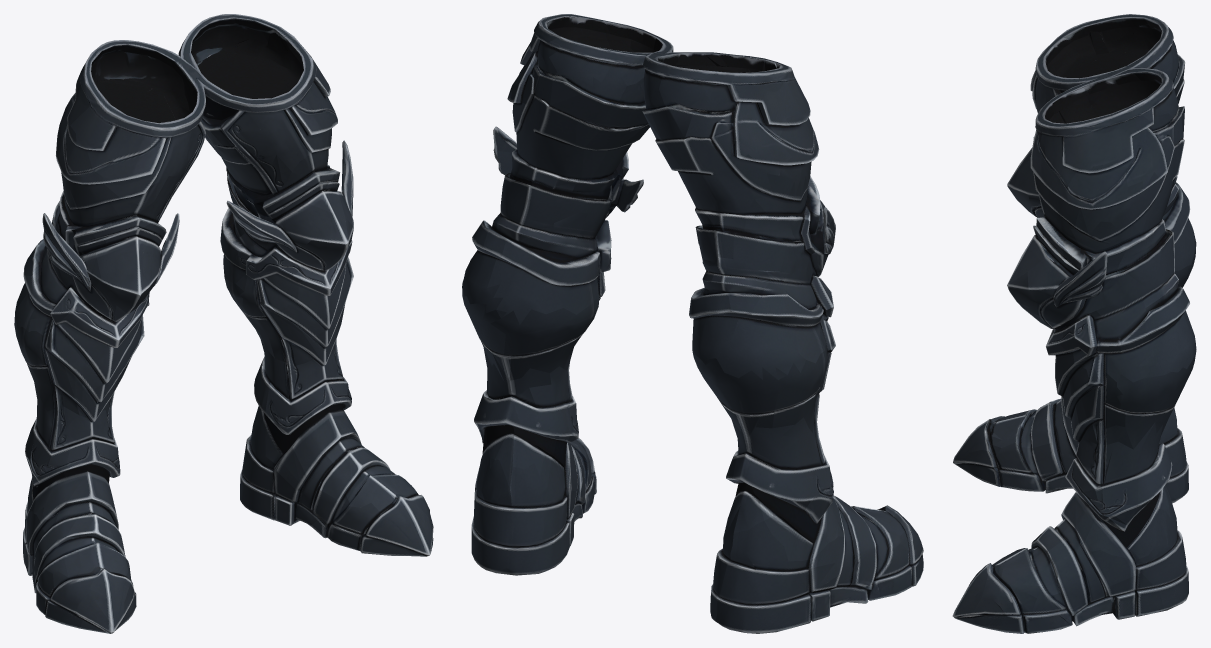
Rendered from darkplate_legs.glb.
3 views of the same model, side by side, from view 1: azimuth 30°, elevation 25°; view 2: azimuth 150°, elevation 25°; view 3: azimuth 270°, elevation 25° (orthographic). The views are drawn at different scales.
Visible parts, largest first — view 1: Mesh_0; view 2: Mesh_0; view 3: Mesh_0.
Part boxes in pixels (x1,y1,x2,y2): Mesh_0: (14, 14, 433, 633); Mesh_0: (462, 14, 923, 633); Mesh_0: (952, 14, 1196, 633).
Bounding box in the file's own units: 1.54 × 1.9 × 0.8579.
1 material, 1 textured.
